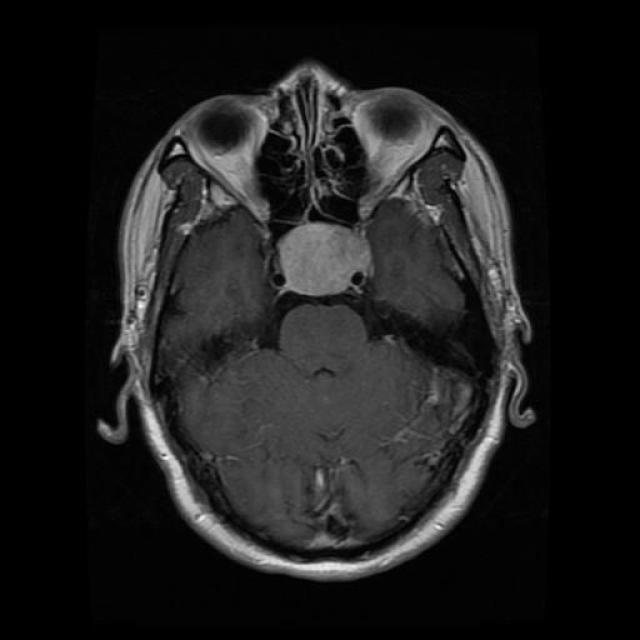pituitary: (266, 194, 376, 316)
